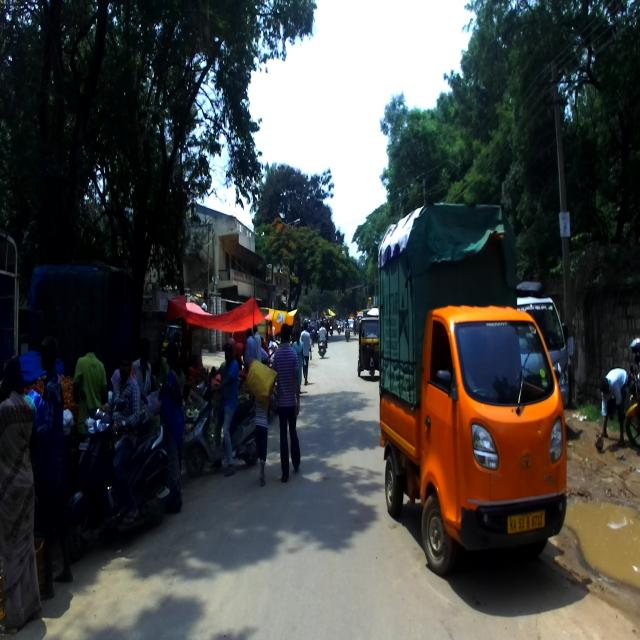autorickshaw: (357, 315, 382, 380)
scooter: (65, 397, 171, 561), (184, 366, 260, 478)
truck: (378, 201, 567, 577)
